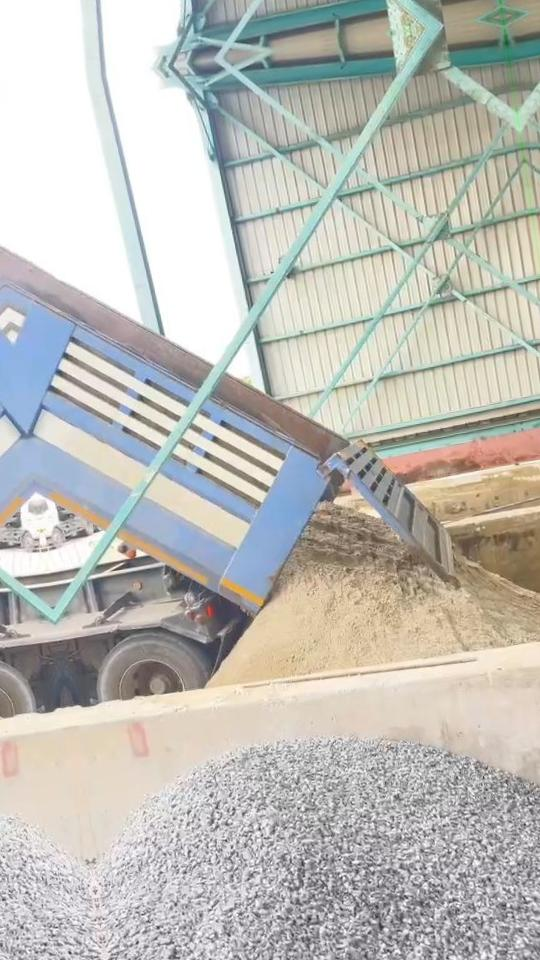gravel: (93, 738, 540, 960)
sand: (210, 503, 540, 686)
